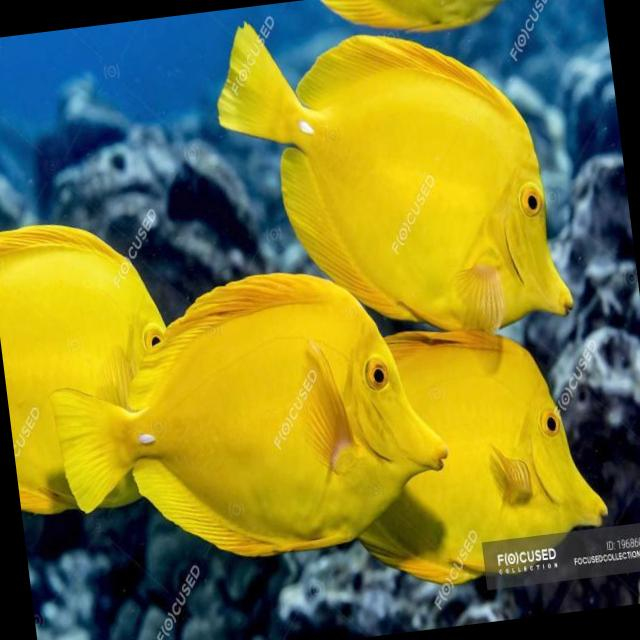TangFish: (33, 256, 456, 586), (203, 0, 578, 359), (337, 296, 619, 595)
